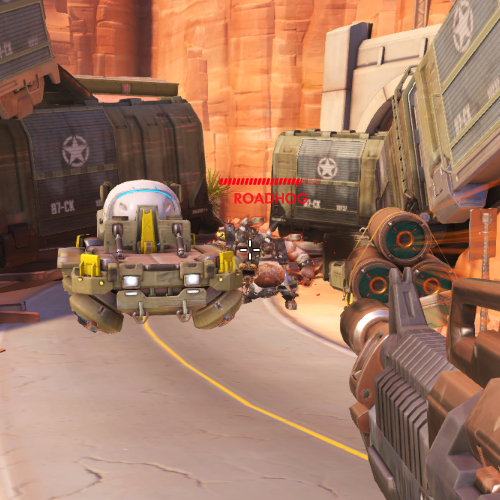hpbar: (218, 177, 322, 186)
